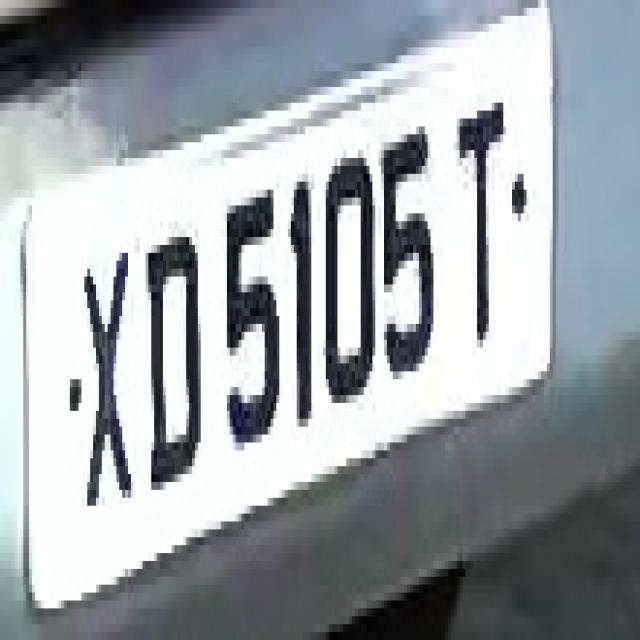0: (320, 142, 387, 419)
1: (282, 134, 320, 466)
5: (215, 174, 285, 482), (378, 110, 442, 418)
D: (140, 198, 210, 506)
T: (445, 79, 521, 403)
X: (67, 221, 142, 553)
